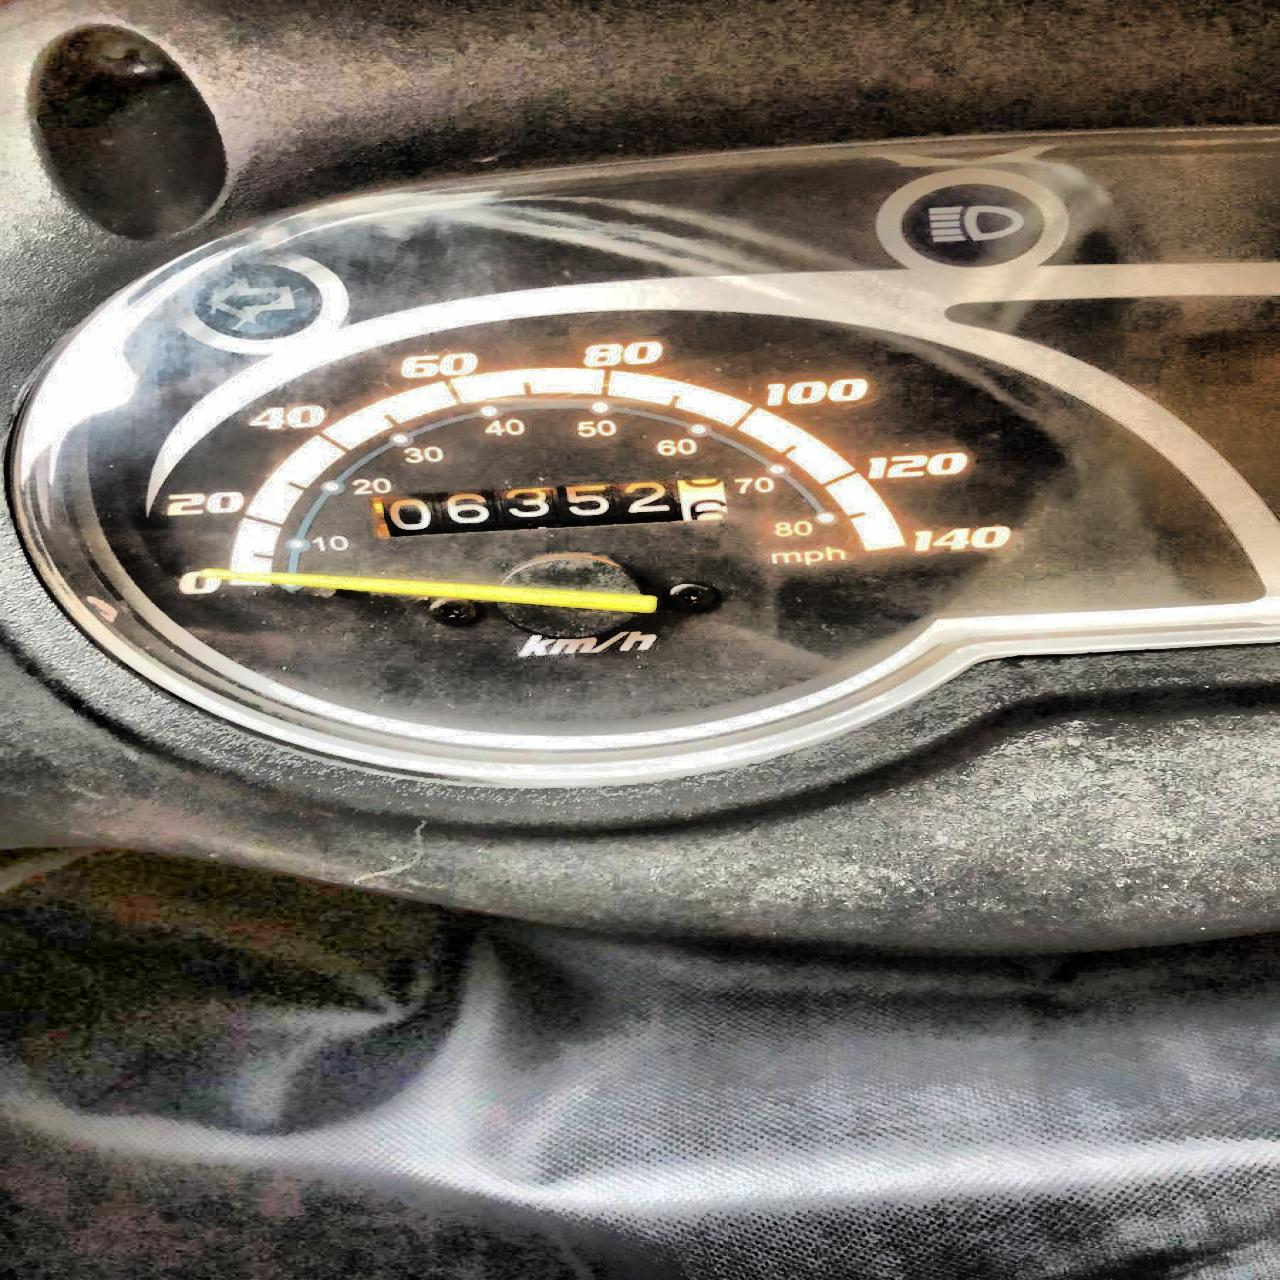0: (383, 497, 433, 530), (369, 476, 392, 493)
2: (621, 481, 669, 513), (350, 477, 372, 495)
3: (501, 488, 551, 518)
5: (563, 482, 610, 517)
6: (441, 492, 489, 524), (686, 497, 728, 522)
odometer: (350, 472, 744, 542)
